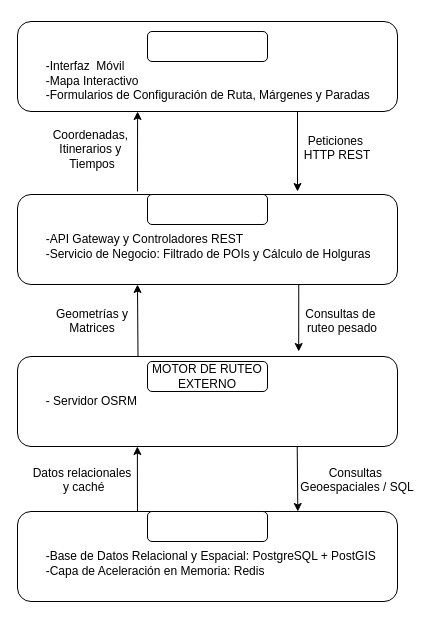
Some shapes in this 435 by 619 pixel diagram are drawn without their labels. Here are the shapes that lost their labels. From the top down, the centre of each, then its label:
At (x=207, y=46): "CAPA DE CLIENTE".
At (x=207, y=209): "CAPA DE SERVIDOR".
At (x=207, y=526): "CAPA DE DATOS".
